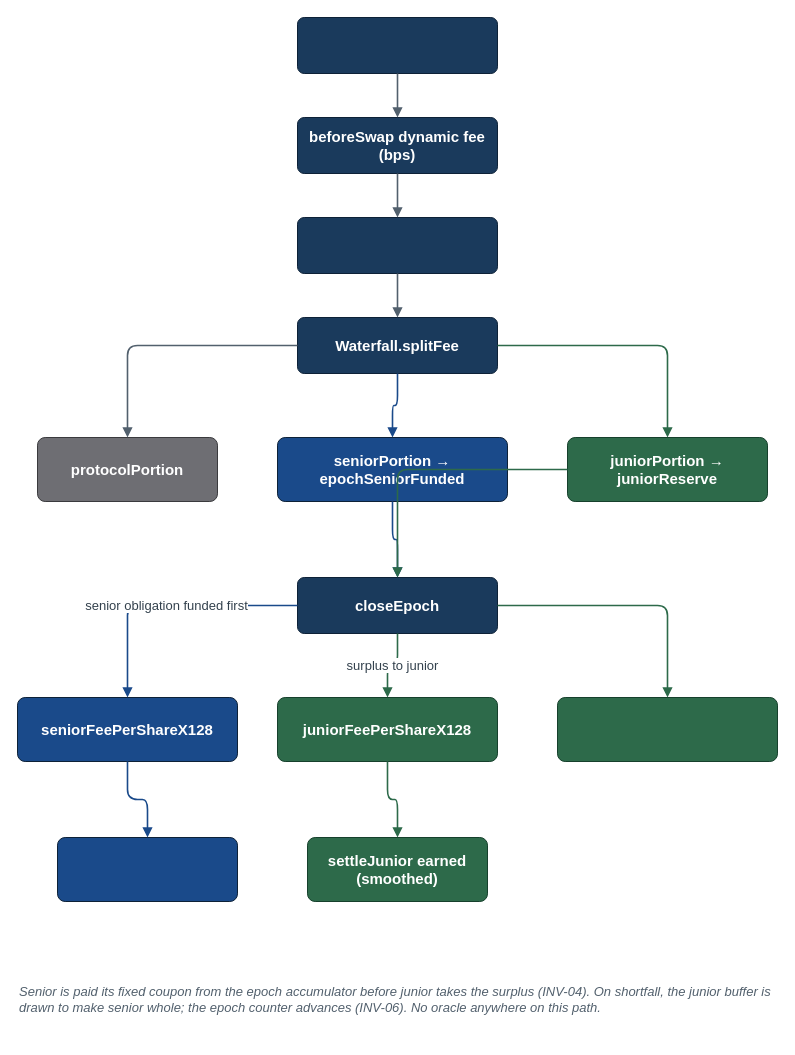
The diagram is 795 pixels wide and 1055 high, and some of its shapes have lost their labels. The box of each missing label's shape, as (x1, y1, x2, y2) in pixels:
afterSwap feeAmount: (296, 216, 498, 274)
settleSenior earned (smoothed): (56, 836, 238, 902)
shortfall → draw juniorReserve: (556, 696, 778, 762)
Swap volume: (296, 16, 498, 74)
